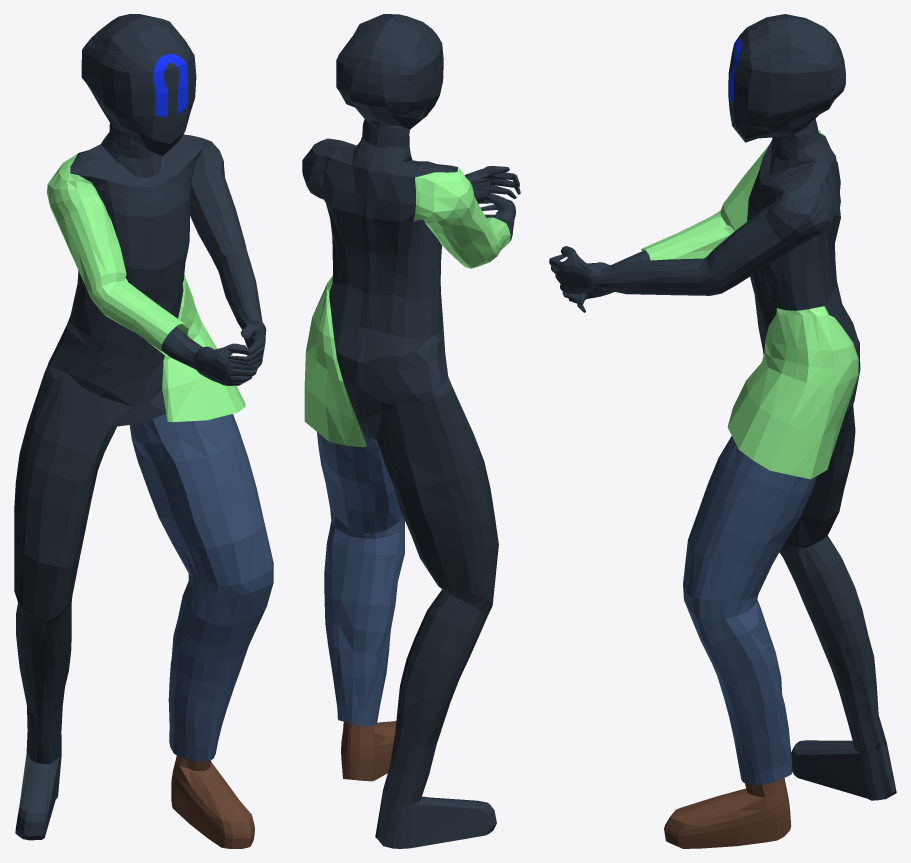
Rendered from Mar_WF_000019.obj.
The picture shows the model from 3 angles, left to right: view 1: azimuth 30°, elevation 25°; view 2: azimuth 150°, elevation 25°; view 3: azimuth 270°, elevation 25°; orthographic projection. The views are drawn at different scales.
Parts seen in each view (by area): view 1: Cube.000_Cube.001; view 2: Cube.000_Cube.001; view 3: Cube.000_Cube.001.
Boxes of the visible parts, <box> form: Cube.000_Cube.001: <box>14,14,273,848</box>; Cube.000_Cube.001: <box>302,14,520,848</box>; Cube.000_Cube.001: <box>549,14,896,848</box>.
Bounding box in the file's own units: 1.05 × 3.84 × 1.5.
